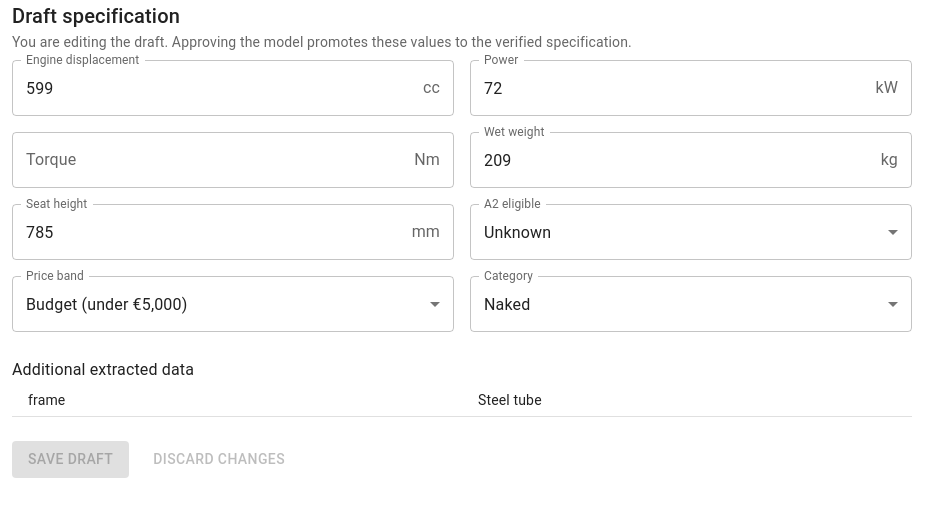
ModelSpecsPanel › rejects a negative number instead of sending it
This screenshot has width=929, height=520.
Replace the text in the number field labelled "Power" with "-5" at (669, 88), box [470,60,867,116]
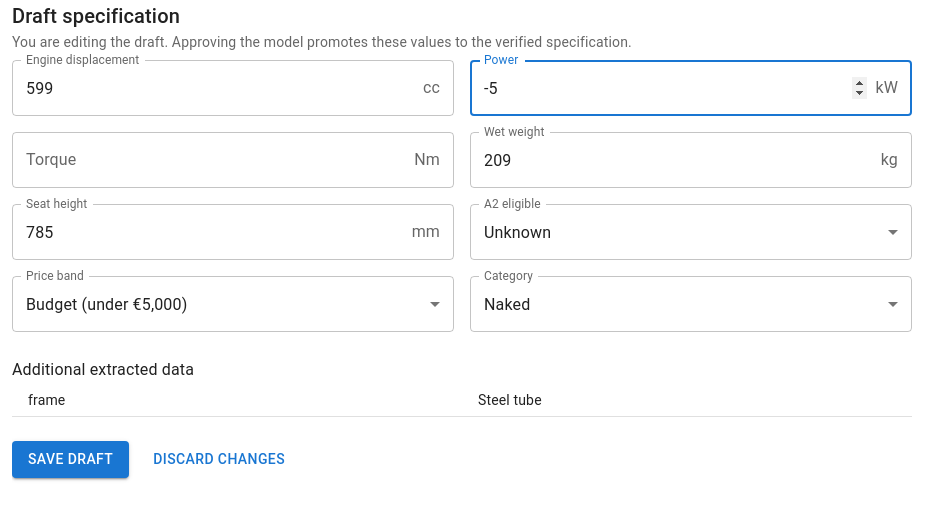
Click the button "Save draft".
click(71, 459)  # box [12,441,129,478]
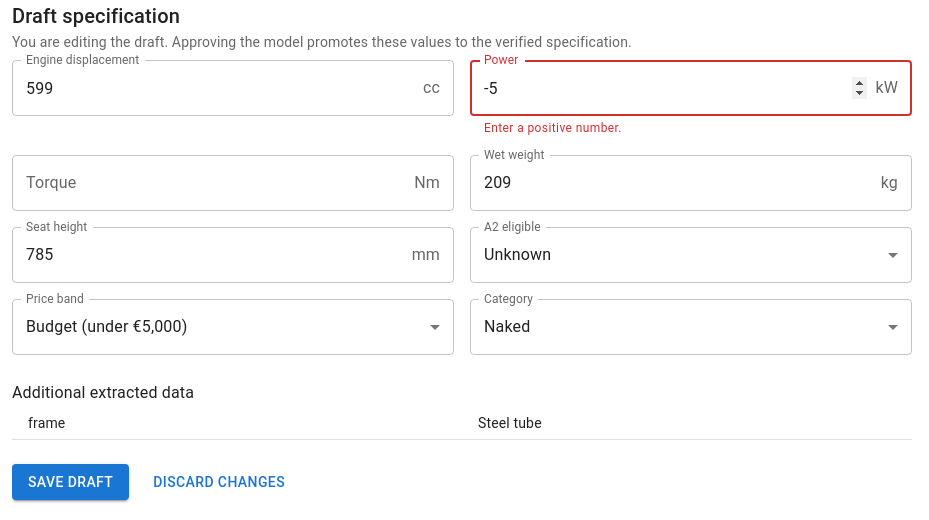
Expected: the text "Enter a positive number." is shown, [484,121,622,135]
